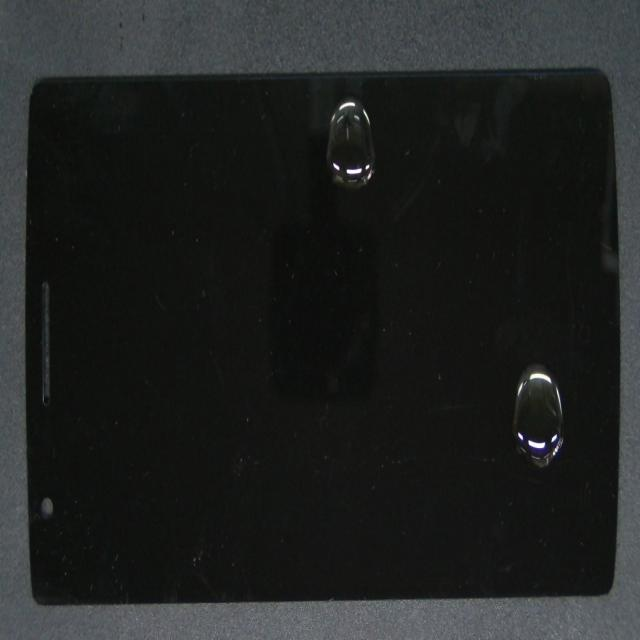oil: (288, 238, 640, 611), (196, 120, 568, 235)
